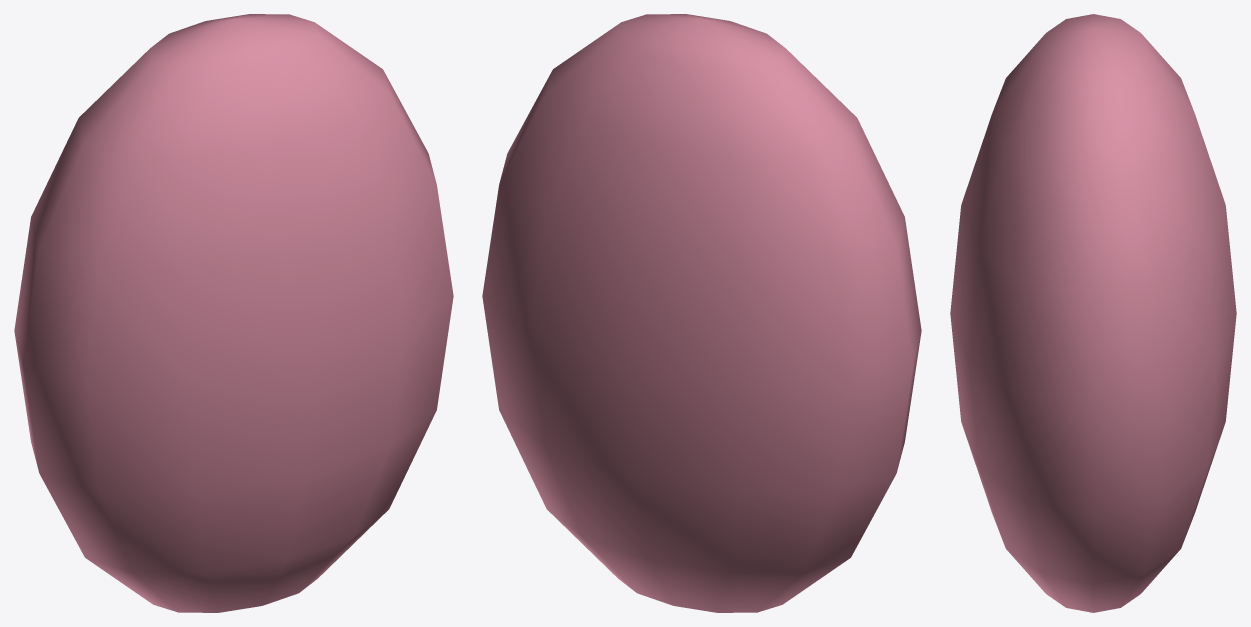
Rendered from mouths-chibi-02.glb.
3 views of the same model, side by side, from view 1: azimuth 30°, elevation 25°; view 2: azimuth 150°, elevation 25°; view 3: azimuth 270°, elevation 25° (orthographic). The views are drawn at different scales.
Visible parts, largest first — view 1: part_0; view 2: part_0; view 3: part_0.
Part boxes in pixels (x1,y1,x2,y2): part_0: [14, 14, 453, 612]; part_0: [482, 14, 921, 612]; part_0: [950, 14, 1236, 612].
Size of the model in its own units: 0.18 by 0.24 by 0.11.
